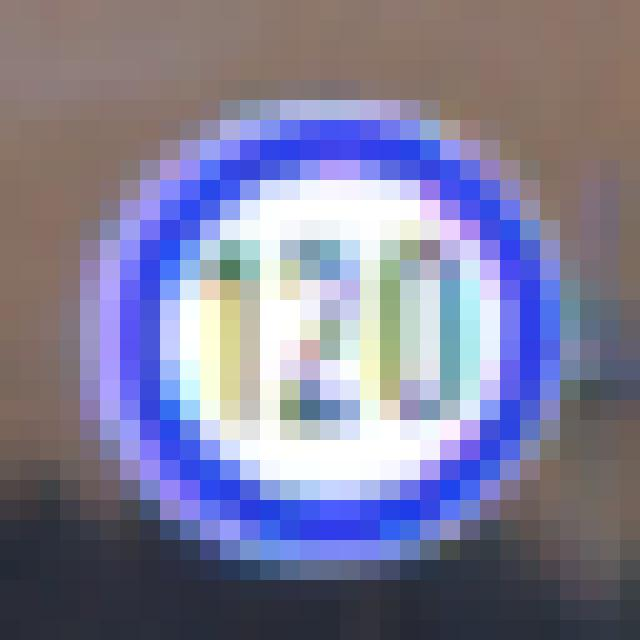SPEED LIMIT 120: (93, 102, 569, 570)
